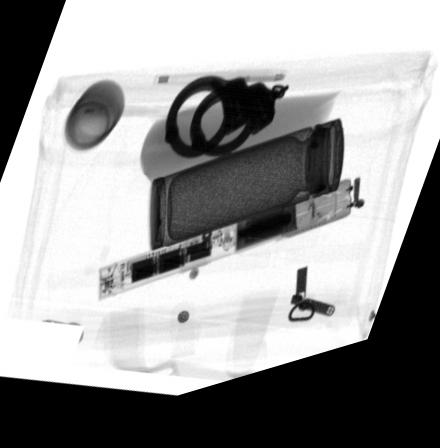Baton: (97, 198, 354, 309)
HandCuffs: (162, 88, 290, 173)
